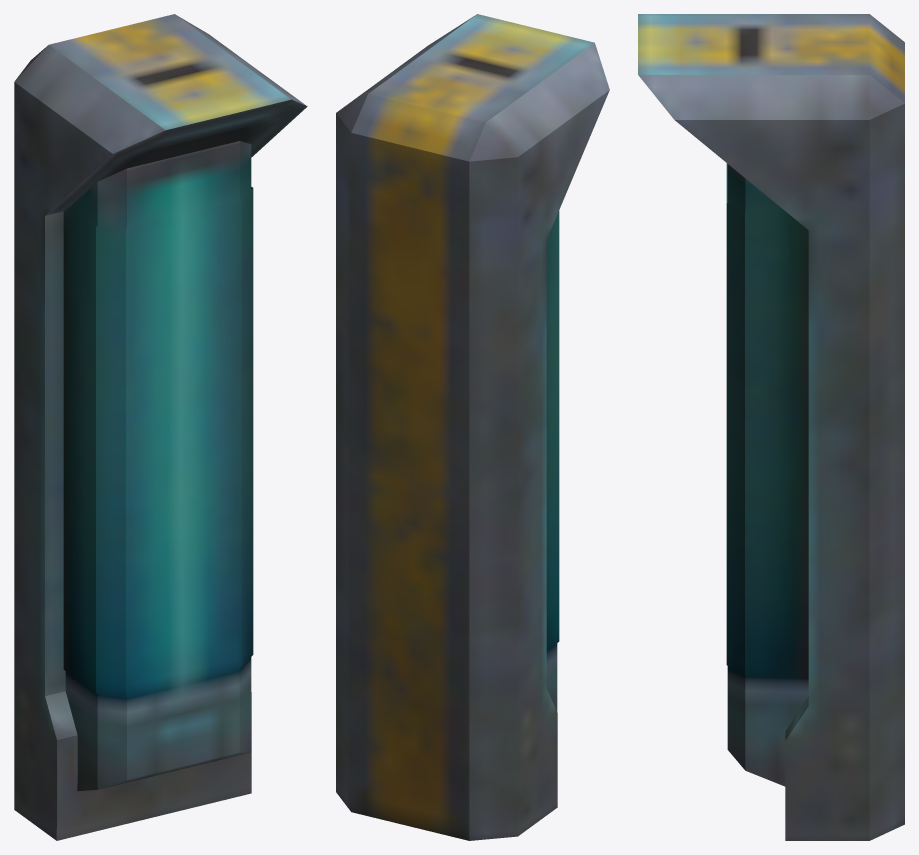
The model's file is yw_gonghuilingdi_xiaowujian05.FBX.
3 renders of one model, left to right at view 1: azimuth 30°, elevation 25°; view 2: azimuth 150°, elevation 25°; view 3: azimuth 270°, elevation 25°, orthographic. The views are drawn at different scales.
Parts seen in each view (by area): view 1: yw_gonghuilingdi_xiaowujian05; view 2: yw_gonghuilingdi_xiaowujian05; view 3: yw_gonghuilingdi_xiaowujian05.
Boxes of the visible parts, x1,y1,x2,y2 form: yw_gonghuilingdi_xiaowujian05: (14,14,307,840); yw_gonghuilingdi_xiaowujian05: (336,14,609,840); yw_gonghuilingdi_xiaowujian05: (638,14,904,840).
Bounding box in the file's own units: 26.1 × 96.88 × 31.27.
